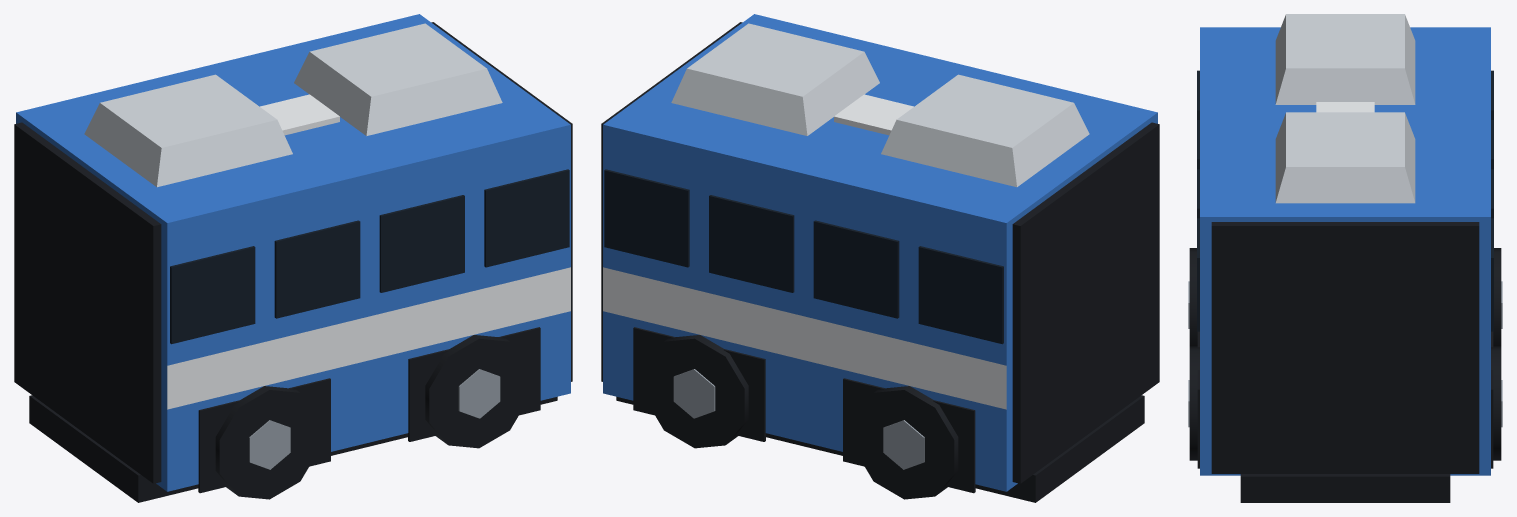
Rendered from busWall.glb.
3 renders of one model, left to right at view 1: azimuth 30°, elevation 25°; view 2: azimuth 150°, elevation 25°; view 3: azimuth 270°, elevation 25°, orthographic. The views are drawn at different scales.
Visible parts, largest first — view 1: busWall; view 2: busWall; view 3: busWall.
Boxes of the visible parts, <box> form: busWall: <box>14,14,572,502</box>; busWall: <box>601,14,1159,502</box>; busWall: <box>1188,14,1502,502</box>.
Size of the model in its own units: 8 by 6 by 5.4.
